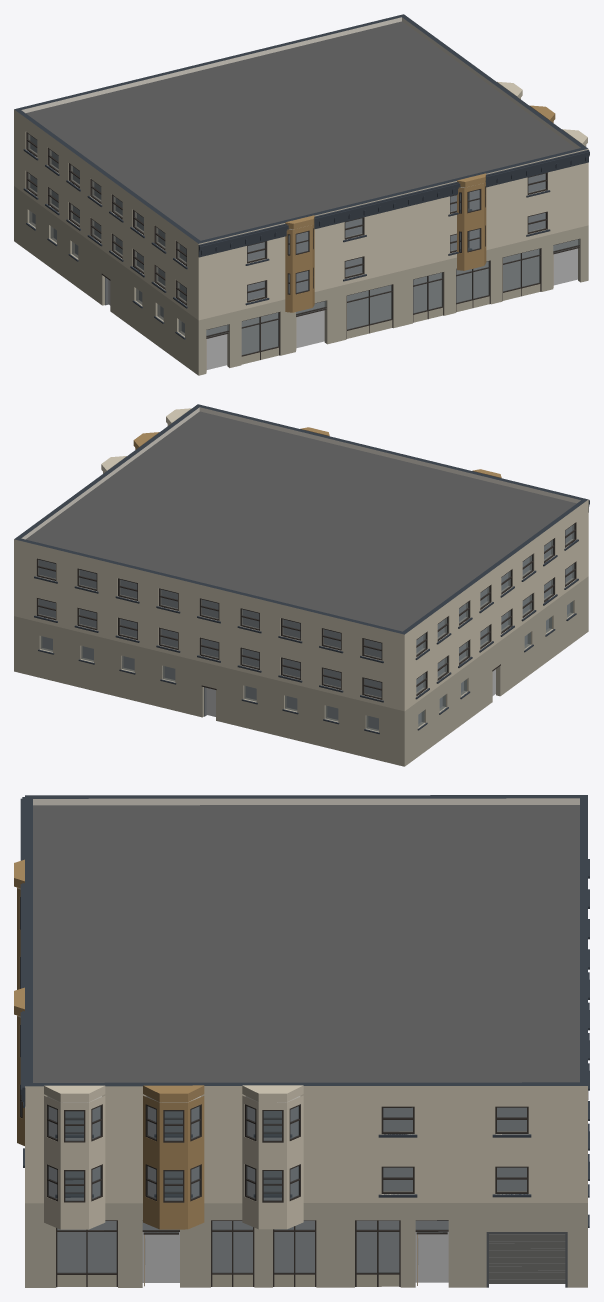
Rendered from exterior.glb.
The picture shows the model from 3 angles, top to bottom: view 1: azimuth 30°, elevation 25°; view 2: azimuth 150°, elevation 25°; view 3: azimuth 270°, elevation 25°; orthographic projection. The views are drawn at different scales.
Visible parts, largest first — view 1: roof, shell, shadow-proxy, glazing, trim, bay-windows, storefront, frames, bay-glazing, bay-windows.001; view 2: shell, roof, glazing, shadow-proxy, frames, trim, bay-windows.001; view 3: roof, shell, shadow-proxy, bay-windows.001, glazing, storefront, bay-glazing.001, trim, frames, bay-windows.
Part boxes in pixels (x1,y1,x2,y2): roof: (26, 21, 576, 240); shell: (14, 14, 588, 375); shadow-proxy: (30, 136, 577, 369); glazing: (28, 134, 579, 355); trim: (23, 149, 589, 339); bay-windows: (285, 173, 486, 312); storefront: (101, 238, 579, 372); frames: (26, 132, 547, 305); bay-glazing: (287, 186, 485, 294); bay-windows.001: (497, 81, 587, 146); shell: (14, 404, 588, 766); roof: (26, 411, 576, 631); glazing: (38, 524, 574, 731); shadow-proxy: (39, 526, 571, 729); frames: (36, 522, 576, 699); trim: (34, 500, 589, 734); bay-windows.001: (101, 408, 191, 473); roof: (33, 805, 579, 1082); shell: (25, 795, 587, 1287); shadow-proxy: (49, 1106, 526, 1282); bay-windows.001: (44, 1085, 303, 1229); glazing: (57, 1107, 526, 1272); storefront: (56, 1091, 588, 1287); bay-glazing.001: (46, 1104, 300, 1202); trim: (20, 797, 589, 1227); frames: (65, 1106, 528, 1193); bay-windows: (14, 859, 24, 1145).
Size of the model in its own units: 30.08 by 9.45 by 24.39.
